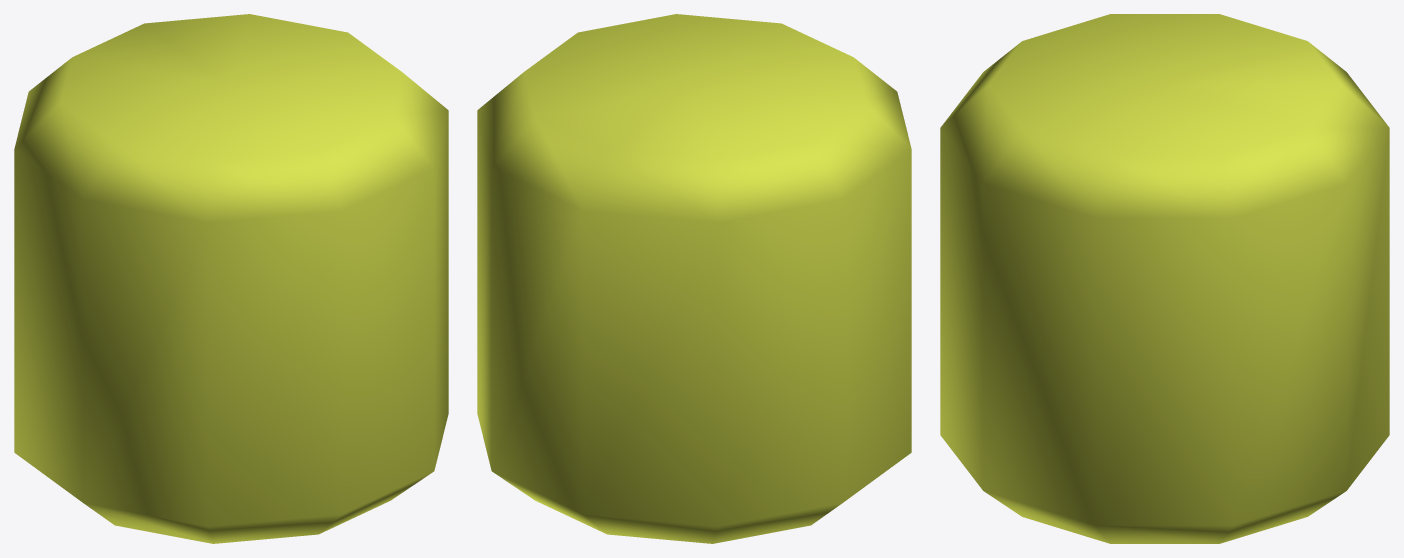
Rendered from Marshmallow_Cooked.fbx.
The picture shows the model from 3 angles, left to right: view 1: azimuth 30°, elevation 25°; view 2: azimuth 150°, elevation 25°; view 3: azimuth 270°, elevation 25°; orthographic projection.
Visible parts, largest first — view 1: Marshmallow_Cooked; view 2: Marshmallow_Cooked; view 3: Marshmallow_Cooked.
Boxes of the visible parts, x1,y1,x2,y2 form: Marshmallow_Cooked: (14, 14, 448, 543); Marshmallow_Cooked: (477, 14, 911, 543); Marshmallow_Cooked: (940, 14, 1389, 543).
Size of the model in its own units: 18.43 by 18.46 by 19.38.
